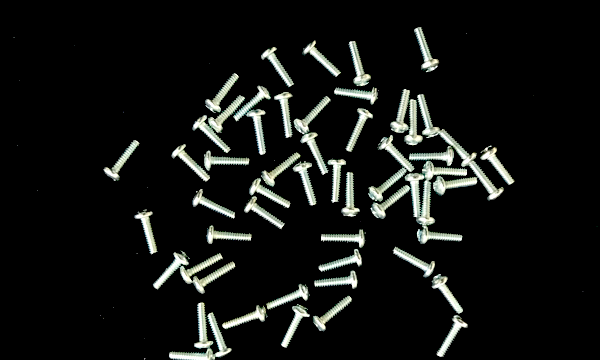shortscrew: (103, 138, 140, 182), (170, 143, 211, 182), (192, 114, 231, 154), (392, 244, 436, 279), (153, 250, 190, 291), (301, 40, 342, 77), (204, 72, 240, 114), (294, 95, 332, 134), (313, 296, 353, 333), (261, 47, 297, 88), (437, 314, 470, 358), (207, 95, 245, 133), (439, 129, 477, 167), (378, 135, 415, 174), (233, 85, 273, 121), (262, 151, 302, 187), (481, 145, 516, 186), (249, 176, 293, 208), (243, 196, 284, 230), (370, 186, 411, 220), (431, 273, 464, 315), (180, 253, 223, 285), (192, 188, 236, 219), (299, 132, 330, 176), (194, 262, 237, 293), (281, 305, 311, 349), (346, 108, 375, 153), (368, 169, 406, 203), (206, 313, 234, 359), (265, 283, 311, 311), (471, 163, 504, 202), (414, 27, 441, 73), (222, 305, 269, 331), (292, 161, 318, 208), (387, 88, 412, 134), (417, 94, 442, 139), (134, 209, 158, 255), (348, 42, 373, 86), (318, 249, 363, 273), (409, 146, 455, 168), (246, 109, 267, 156), (206, 226, 252, 247), (204, 150, 250, 171), (327, 156, 348, 202), (274, 92, 294, 140), (404, 99, 424, 147), (335, 85, 380, 106), (321, 227, 368, 247), (416, 225, 463, 245), (432, 177, 478, 197), (195, 303, 214, 351), (405, 171, 424, 218), (417, 180, 436, 226), (422, 161, 468, 180), (341, 172, 360, 217), (314, 271, 360, 289), (170, 348, 216, 360)
